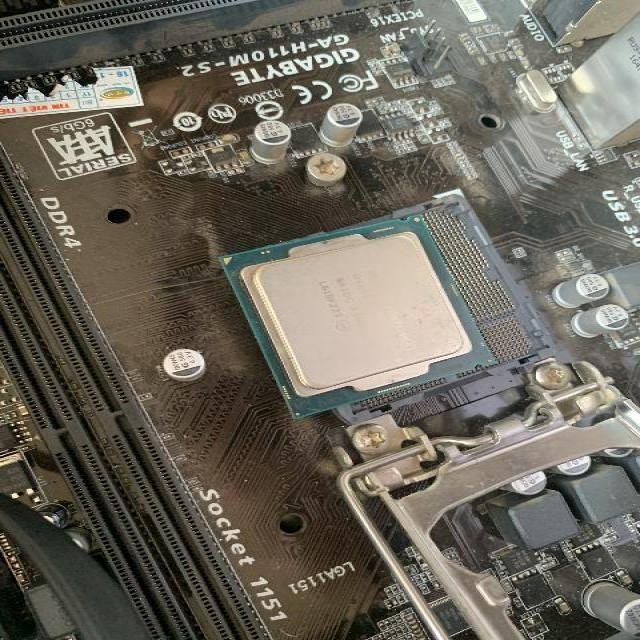CPU: (216, 214, 496, 419)
Mainboard: (0, 0, 640, 640)
